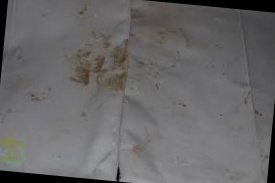earth: (69, 41, 130, 90)
